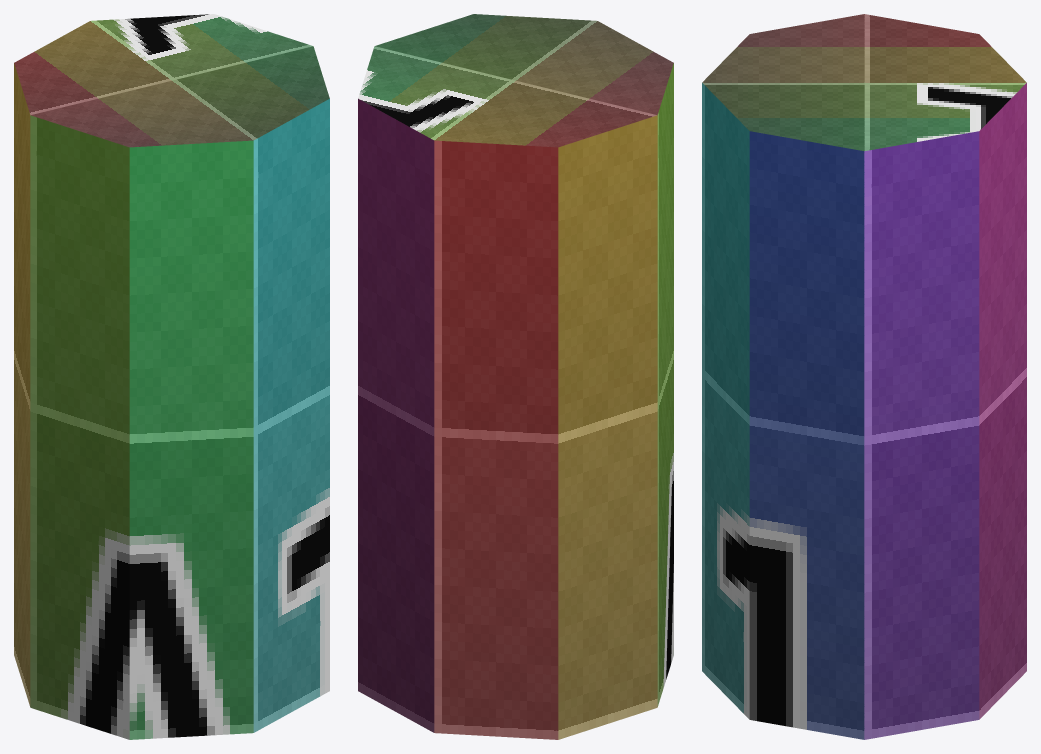
3 views of the same model, side by side, from view 1: azimuth 30°, elevation 25°; view 2: azimuth 150°, elevation 25°; view 3: azimuth 270°, elevation 25° (orthographic).
Parts seen in each view (by area): view 1: Cylinder; view 2: Cylinder; view 3: Cylinder.
Boxes of the visible parts, <box> form: Cylinder: <box>14,14,329,739</box>; Cylinder: <box>358,14,673,739</box>; Cylinder: <box>702,14,1026,739</box>.
Bounding box in the file's own units: 2 × 4 × 2.
Materials: 1 (1 with a texture image).
